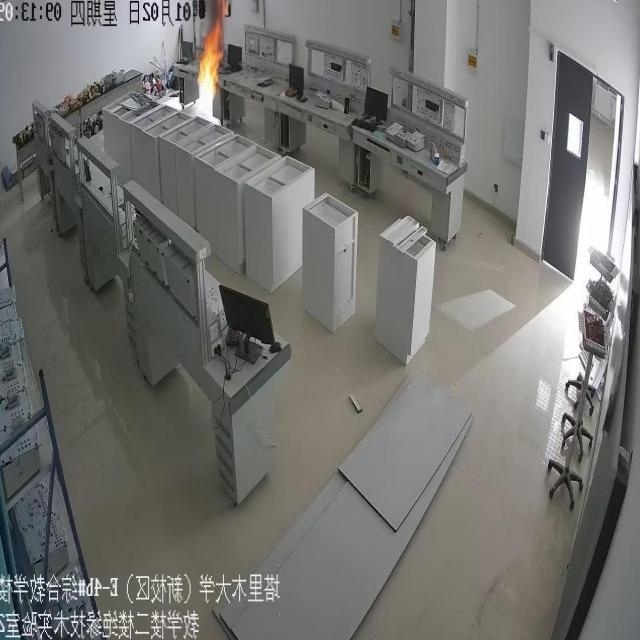smoke: (192, 8, 225, 116)
